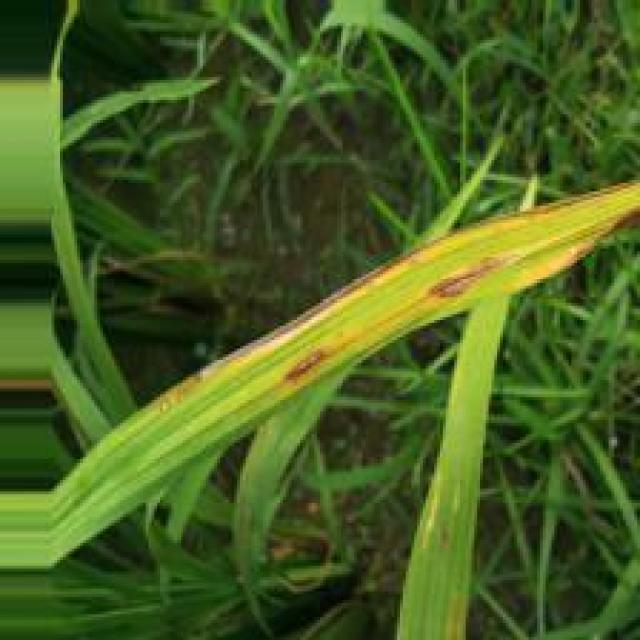Narrow_Brown_Leaf_Spot: (152, 176, 640, 407)
